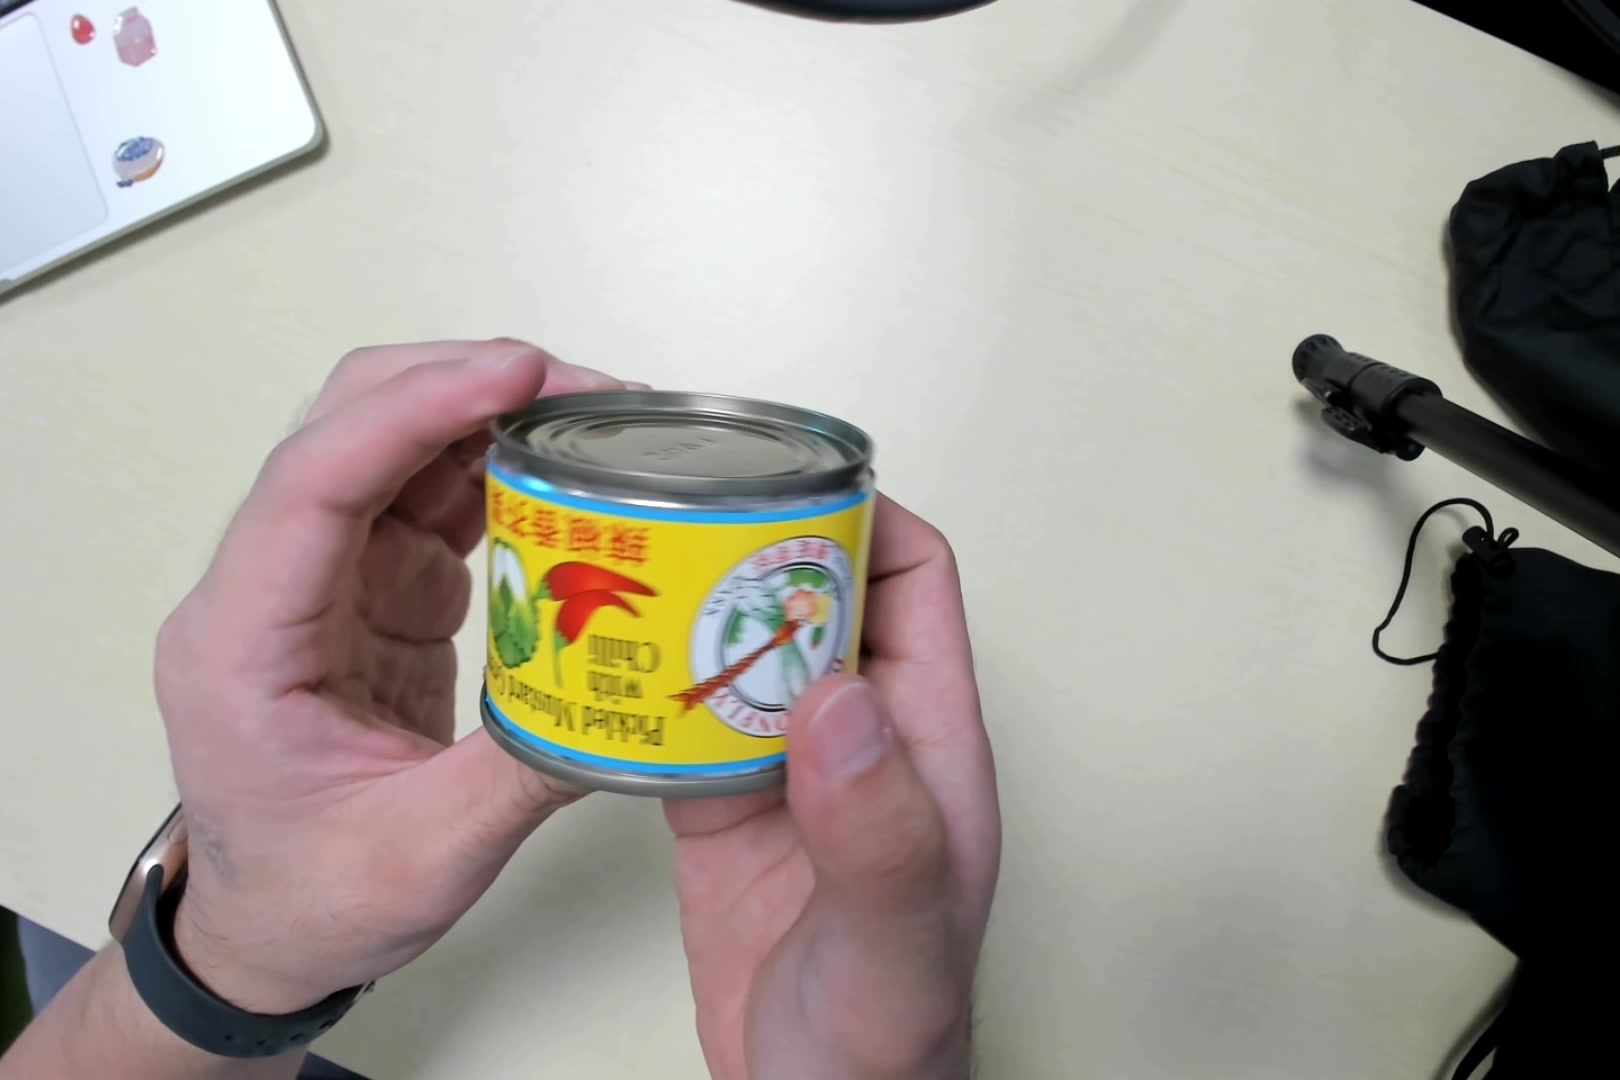CannedFruitsCocktail_0-99g_Halal_NonHealthy: (479, 393, 875, 768)
